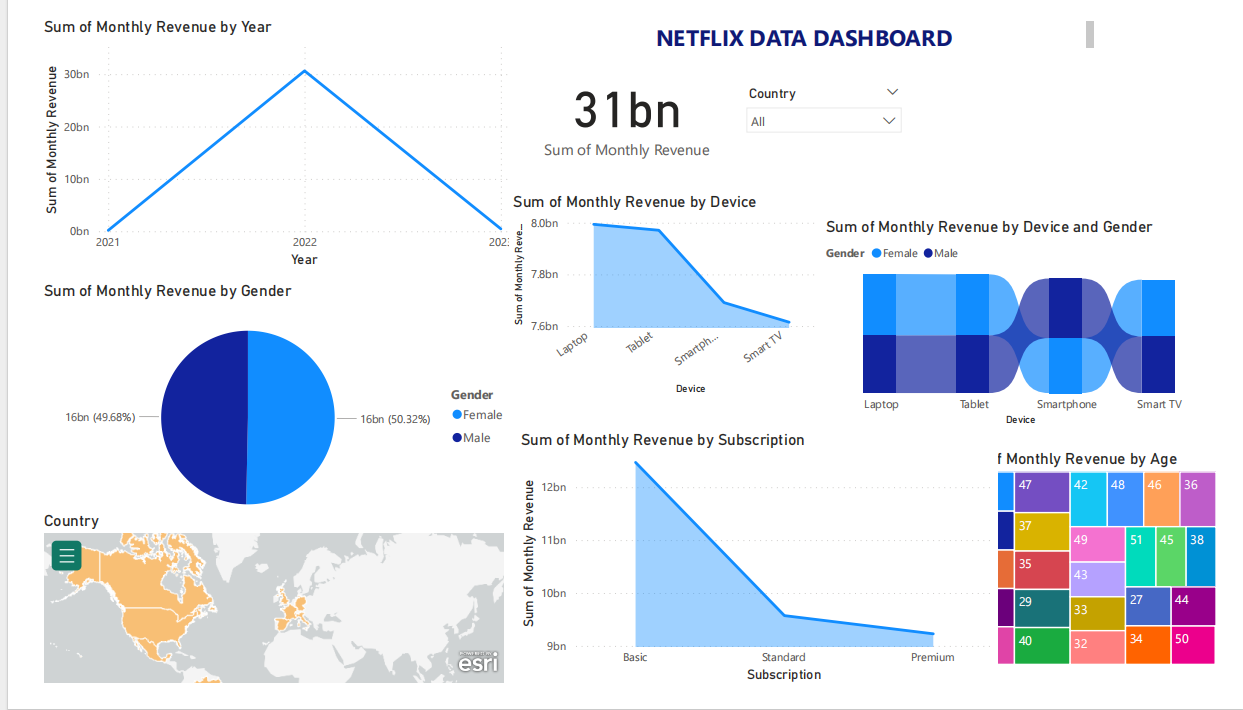

This screenshot's page, from the dashboard's own definition file:
{"tool":"powerbi","page":{"name":"Page 1","canvas":[1280,720],"ordinal":0},"visuals":[{"type":"lineChart","fields":{"Y":["Sum(Netflix Userbase.Monthly Revenue)"],"Category":["Netflix Userbase.Join Date.Variation.Date Hierarchy.Year"]},"box":[9.6,0,514.1,274.2],"z":0},{"type":"pieChart","fields":{"Category":["Netflix Userbase.Gender"],"Y":["Sum(Netflix Userbase.Monthly Revenue)"]},"box":[10,284,514,274],"z":1000},{"type":"treemap","fields":{"Group":["Netflix Userbase.Age"],"Values":["Sum(Netflix Userbase.Monthly Revenue)"]},"box":[987.7,464.8,292.8,235.9],"z":2000},{"type":"card","fields":{"Values":["Sum(Netflix Userbase.Monthly Revenue)"]},"box":[524,47.6,235.9,110.4],"z":3000},{"type":"esriVisual","fields":{"Location":["Netflix Userbase.Country"]},"box":[10.5,531,504.3,189.4],"z":4000},{"type":"areaChart","fields":{"Category":["Netflix Userbase.Subscription"],"Y":["Sum(Netflix Userbase.Monthly Revenue)"]},"box":[522.9,443.9,517.1,276.5],"z":5000},{"type":"stackedAreaChart","fields":{"Category":["Netflix Userbase.Device"],"Y":["Sum(Netflix Userbase.Monthly Revenue)"]},"box":[514.7,188.2,334.6,221.9],"z":6000},{"type":"ribbonChart","fields":{"Category":["Netflix Userbase.Device"],"Y":["Sum(Netflix Userbase.Monthly Revenue)"],"Series":["Netflix Userbase.Gender"]},"box":[850.5,215,429.9,228.9],"z":7000},{"type":"textbox","box":[524,0,625.1,39.5],"z":8000},{"type":"slicer","fields":{"Values":["Netflix Userbase.Country"]},"box":[759.9,68.6,187.1,89.5],"z":9000}]}

Visuals, with their boxes in screenshot pixels (x1, y1, x2, y2), scaled from the page's 1280x720 canvas onto the 1243x710 screenshot:
lineChart - Sum(Netflix Userbase.Monthly Revenue) x Netflix Userbase.Join Date.Variation.Date Hierarchy.Year: [x1=9, y1=0, x2=509, y2=270]
pieChart - Netflix Userbase.Gender x Sum(Netflix Userbase.Monthly Revenue): [x1=10, y1=280, x2=509, y2=550]
treemap - Netflix Userbase.Age x Sum(Netflix Userbase.Monthly Revenue): [x1=959, y1=458, x2=1242, y2=691]
card - Sum(Netflix Userbase.Monthly Revenue): [x1=509, y1=47, x2=738, y2=156]
esriVisual - Netflix Userbase.Country: [x1=10, y1=524, x2=500, y2=709]
areaChart - Netflix Userbase.Subscription x Sum(Netflix Userbase.Monthly Revenue): [x1=508, y1=438, x2=1010, y2=709]
stackedAreaChart - Netflix Userbase.Device x Sum(Netflix Userbase.Monthly Revenue): [x1=500, y1=186, x2=825, y2=404]
ribbonChart - Netflix Userbase.Device x Sum(Netflix Userbase.Monthly Revenue): [x1=826, y1=212, x2=1242, y2=438]
textbox: [x1=509, y1=0, x2=1116, y2=39]
slicer - Netflix Userbase.Country: [x1=738, y1=68, x2=920, y2=156]
